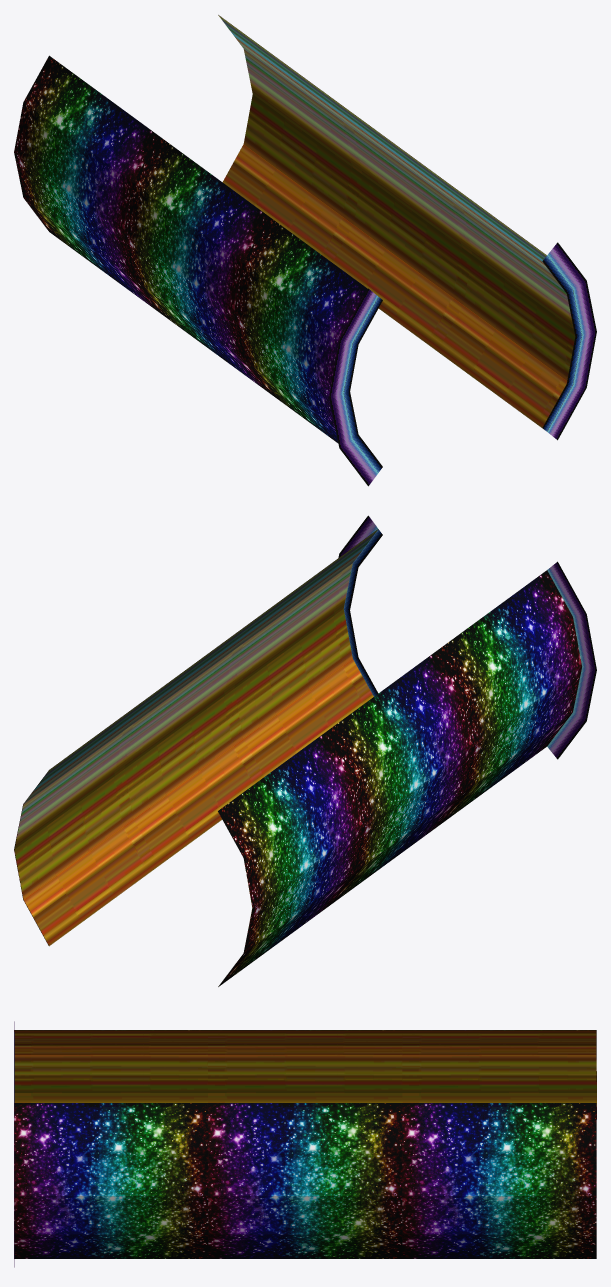
Rendered from LanternRiteFestivalBarrier.fbx.
3 renders of one model, top to bottom at view 1: azimuth 30°, elevation 25°; view 2: azimuth 150°, elevation 25°; view 3: azimuth 270°, elevation 25°, orthographic. The views are drawn at different scales.
Parts seen in each view (by area): view 1: mesh-2.001, mesh-2.002, mesh-2.000; view 2: mesh-2.001, mesh-2.002, mesh-2.000; view 3: mesh-2.001, mesh-2.002.
Boxes of the visible parts, box(x1,y1,x2,y2) form: mesh-2.001: box(14, 15, 581, 442); mesh-2.002: box(218, 15, 581, 429); mesh-2.000: box(329, 242, 596, 486); mesh-2.001: box(14, 529, 581, 986); mesh-2.002: box(14, 529, 378, 986); mesh-2.000: box(338, 515, 596, 759); mesh-2.001: box(14, 1030, 596, 1258); mesh-2.002: box(14, 1030, 596, 1106).
Size of the model in its own units: 310677 by 219682 by 662450.
Materials: 3 (3 with a texture image).
